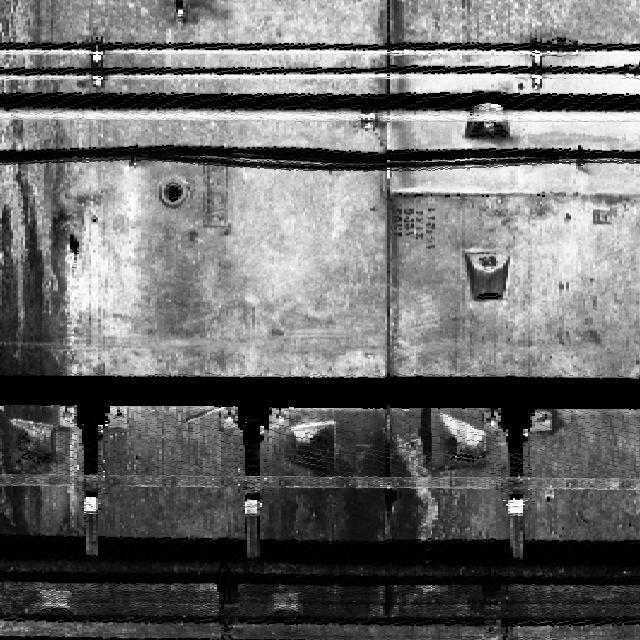leakage: (0, 0, 83, 531), (325, 408, 455, 639)
